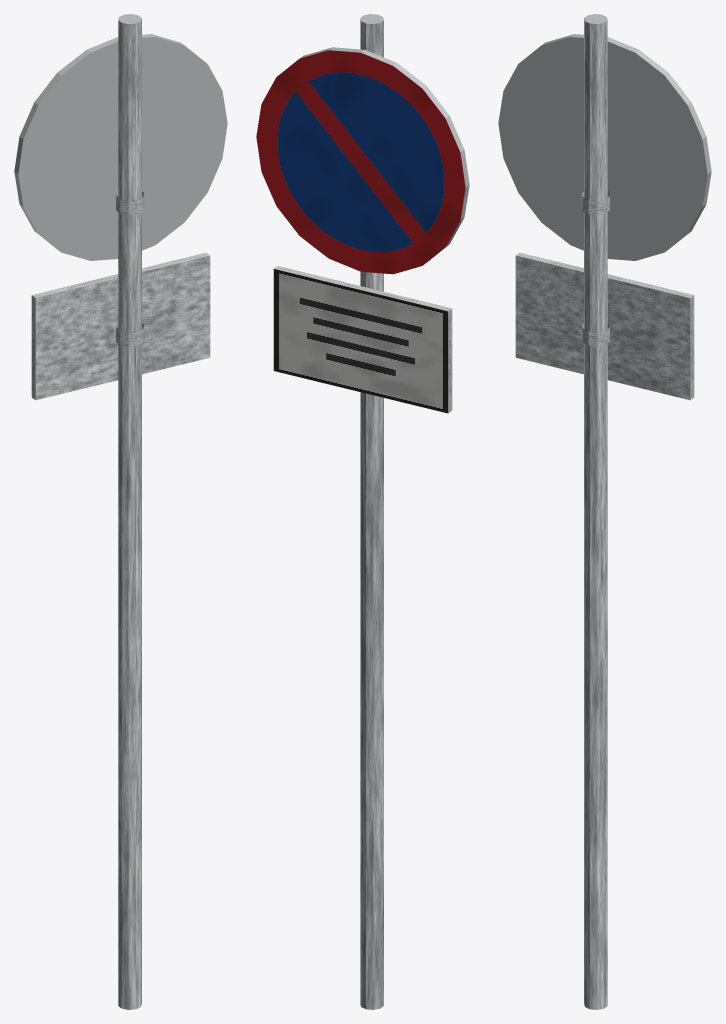
Rendered from SM_Morin_CartelloDivieto.fbx.
3 renders of one model, left to right at view 1: azimuth 30°, elevation 25°; view 2: azimuth 150°, elevation 25°; view 3: azimuth 330°, elevation 25°, orthographic.
Visible parts, largest first — view 1: SM_Morin_CartelloDivieto; view 2: SM_Morin_CartelloDivieto; view 3: SM_Morin_CartelloDivieto.
Part boxes in pixels (<box>): SM_Morin_CartelloDivieto: <box>14,14,227,1009</box>; SM_Morin_CartelloDivieto: <box>256,14,469,1009</box>; SM_Morin_CartelloDivieto: <box>498,14,711,1009</box>.
Size of what is drawn, in the model's own units: 60 by 9.1 by 270.
Materials: 1 (1 with a texture image).
